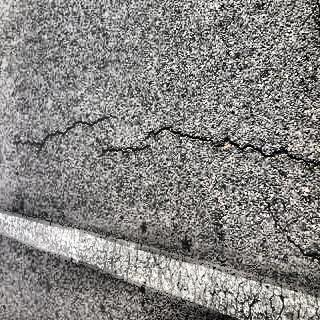crack: (148, 122, 319, 162), (267, 200, 320, 266), (29, 112, 124, 136), (102, 142, 150, 160)
